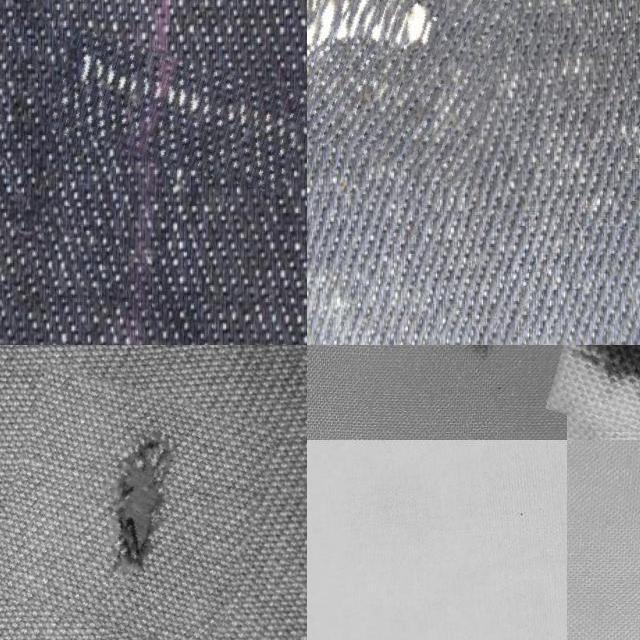Thread_other: (436, 345, 540, 386)
other: (0, 377, 266, 640)
stains: (50, 43, 306, 180), (307, 0, 508, 166)
